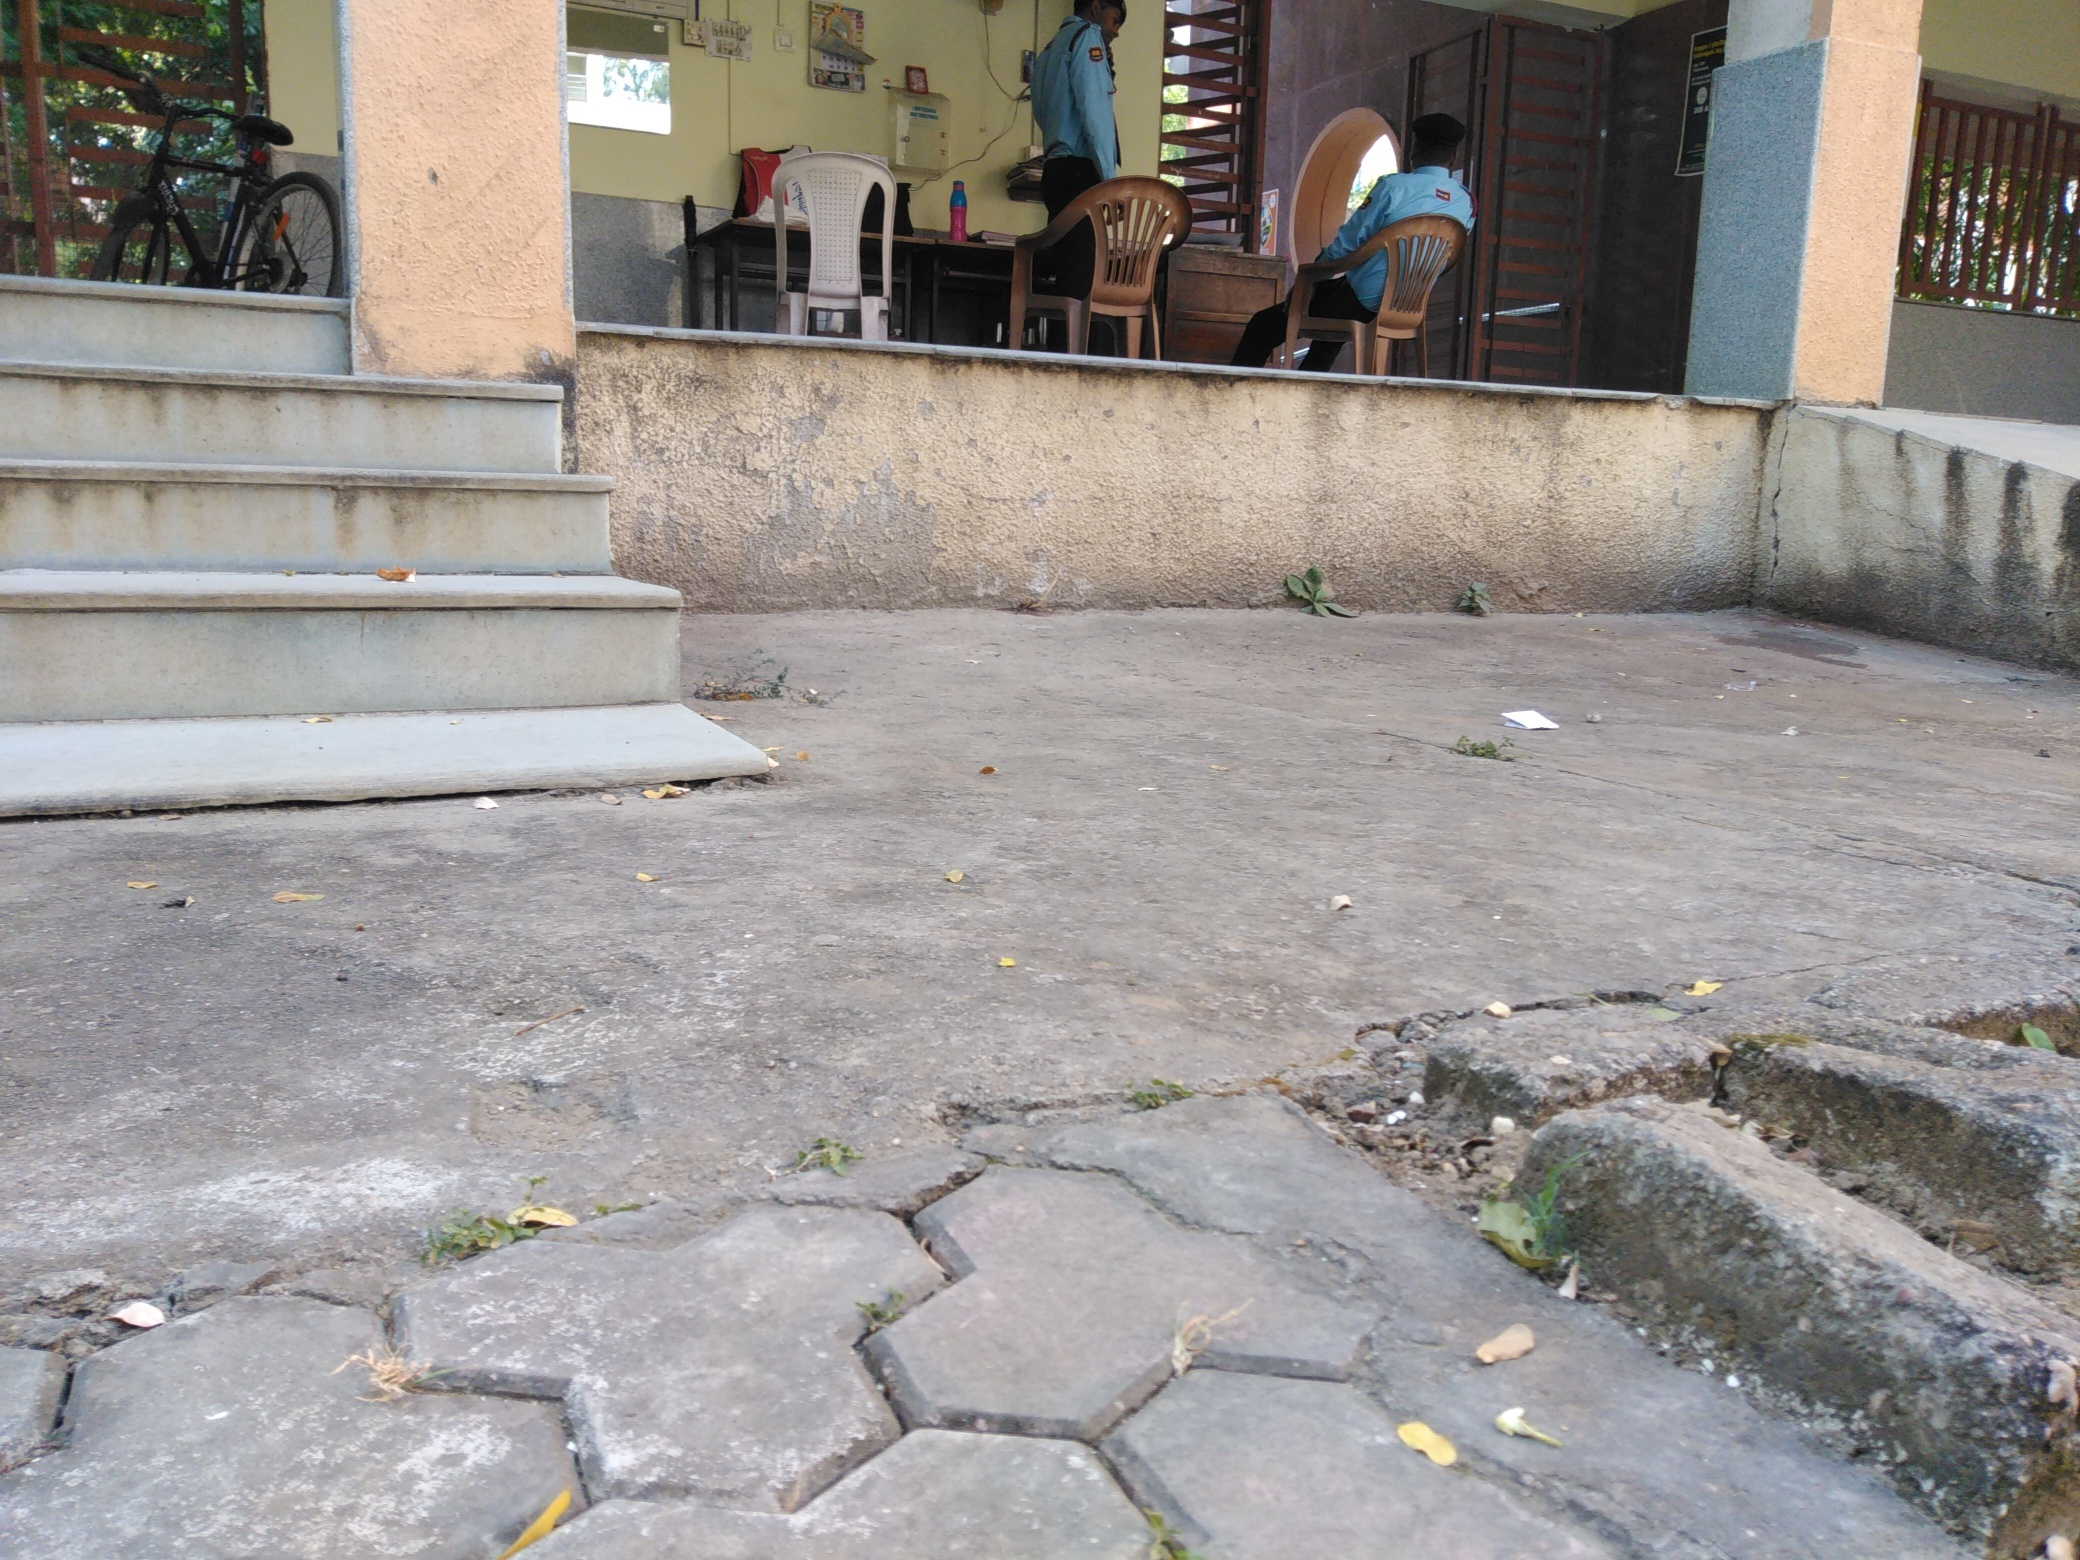stairs_up: (2, 261, 714, 800)
